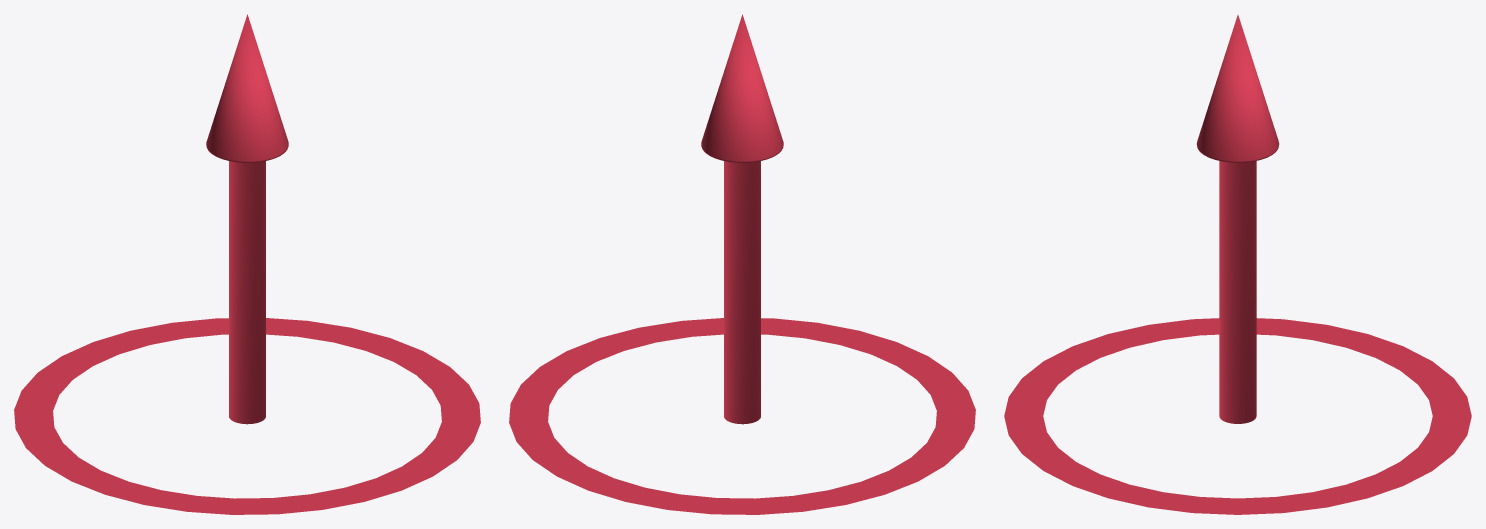
File: dragGuid.draco.glb
The picture shows the model from 3 angles, left to right: view 1: azimuth 30°, elevation 25°; view 2: azimuth 150°, elevation 25°; view 3: azimuth 270°, elevation 25°; orthographic projection.
Visible parts, largest first — view 1: dragGuid; view 2: dragGuid; view 3: dragGuid.
Part boxes in pixels (x1,y1,x2,y2): dragGuid: [14, 14, 480, 514]; dragGuid: [509, 14, 975, 514]; dragGuid: [1004, 15, 1471, 514].
Size of the model in its own units: 0.2 by 0.1898 by 0.2.
